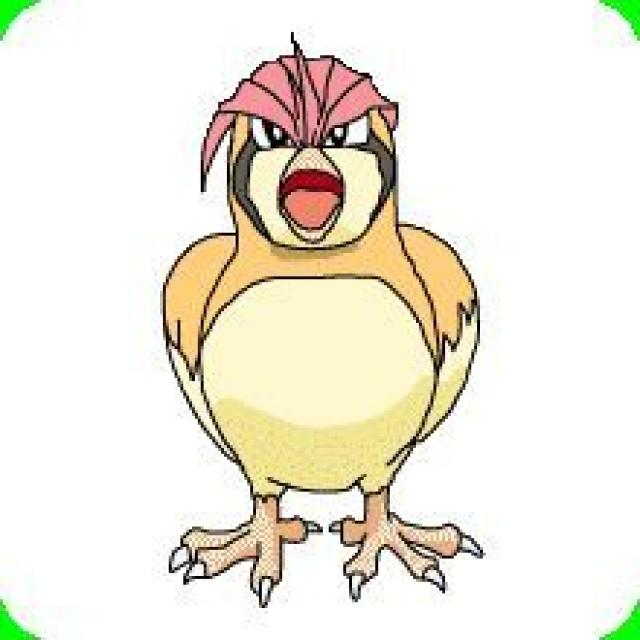Pidgeotto: (157, 46, 487, 600)
